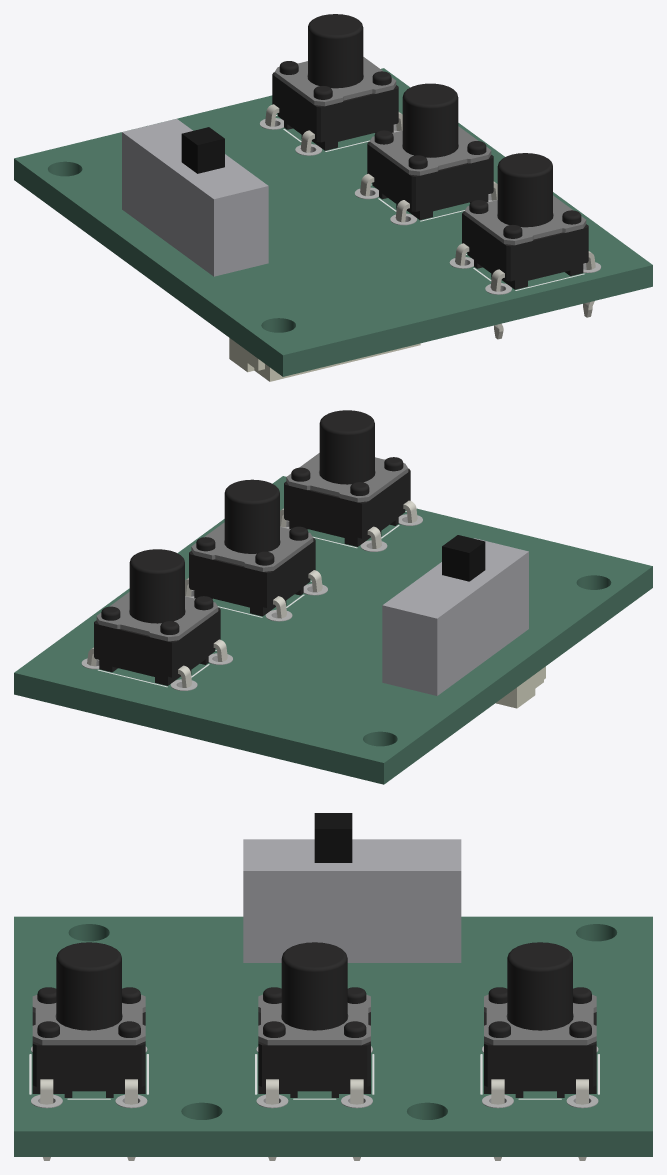
File: controls.glb
3 renders of one model, top to bottom at view 1: azimuth 30°, elevation 25°; view 2: azimuth 150°, elevation 25°; view 3: azimuth 270°, elevation 25°, orthographic. The views are drawn at different scales.
Visible parts, largest first — view 1: =>[0:1:1:8], body, SW3, SW2, SW1, actuator_ON, =>[0:1:1:5], J1; view 2: =>[0:1:1:8], body, SW1, SW3, SW2, actuator_ON, =>[0:1:1:5], J1; view 3: =>[0:1:1:8], body, SW3, SW2, SW1, actuator_ON, =>[0:1:1:5], =>[0:1:1:6].
Part boxes in pixels (box(x1,y1,x2,y2)): =>[0:1:1:8]: box(14, 68, 652, 376); body: box(122, 119, 268, 276); SW3: box(455, 153, 595, 339); SW2: box(360, 83, 497, 222); SW1: box(265, 14, 402, 152); actuator_ON: box(181, 127, 224, 173); =>[0:1:1:5]: box(259, 118, 601, 294); J1: box(229, 338, 420, 381); =>[0:1:1:8]: box(14, 476, 652, 784); body: box(382, 538, 528, 695); SW1: box(87, 549, 227, 687); SW3: box(280, 410, 417, 548); SW2: box(185, 479, 322, 618); actuator_ON: box(442, 535, 485, 581); =>[0:1:1:5]: box(81, 514, 422, 690); J1: box(495, 666, 545, 708); =>[0:1:1:8]: box(14, 916, 652, 1156); body: box(243, 839, 461, 962); SW3: box(32, 942, 145, 1160); SW2: box(258, 942, 370, 1160); SW1: box(484, 942, 596, 1160); actuator_ON: box(314, 813, 352, 862); =>[0:1:1:5]: box(31, 1046, 598, 1108); =>[0:1:1:6]: box(29, 1054, 599, 1099).
Size of the model in its own units: 0.027 by 0.0133 by 0.034.
